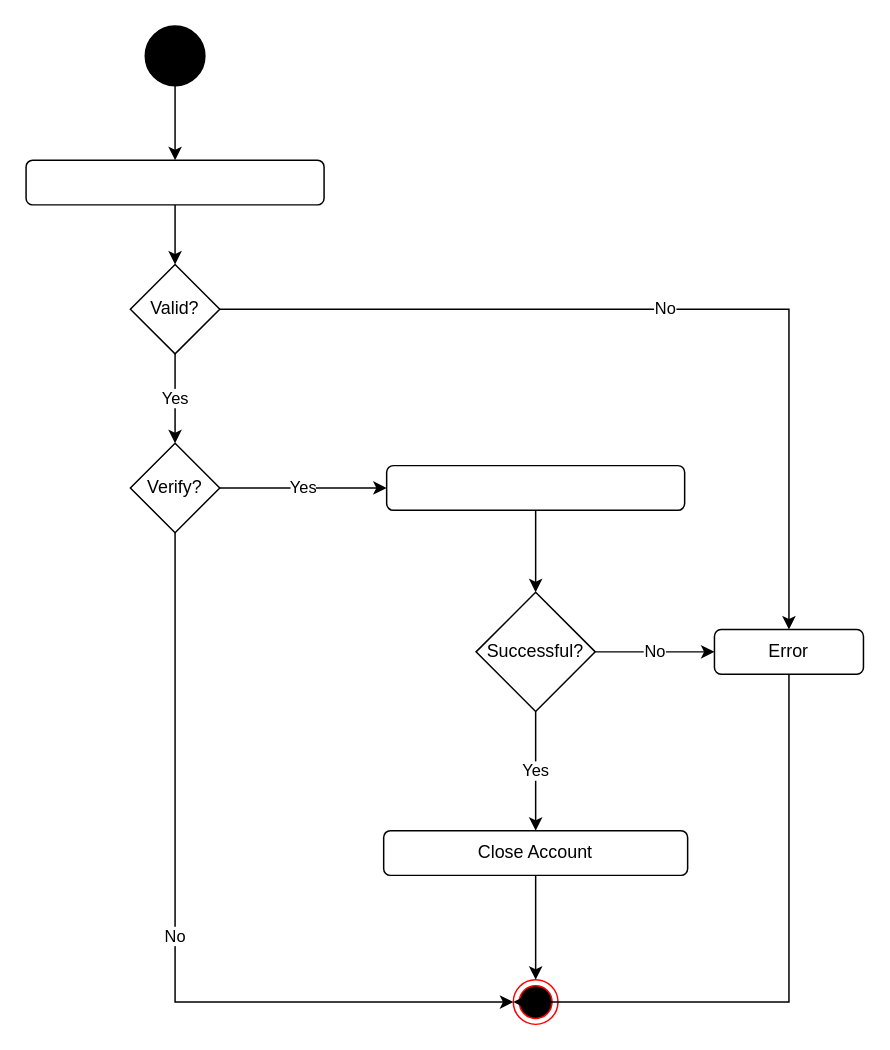
This 890x1050 diagram has some shape labels left out. The shapes that lost their labels are listed below. From the top down, each one's box as (x1, y1, x2, y2) in pixels, then its label:
(25, 159, 324, 205): Request account closure
(385, 464, 685, 510): Transfer remaining equity out of account
